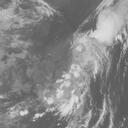cyclone: (61, 29, 111, 92)
